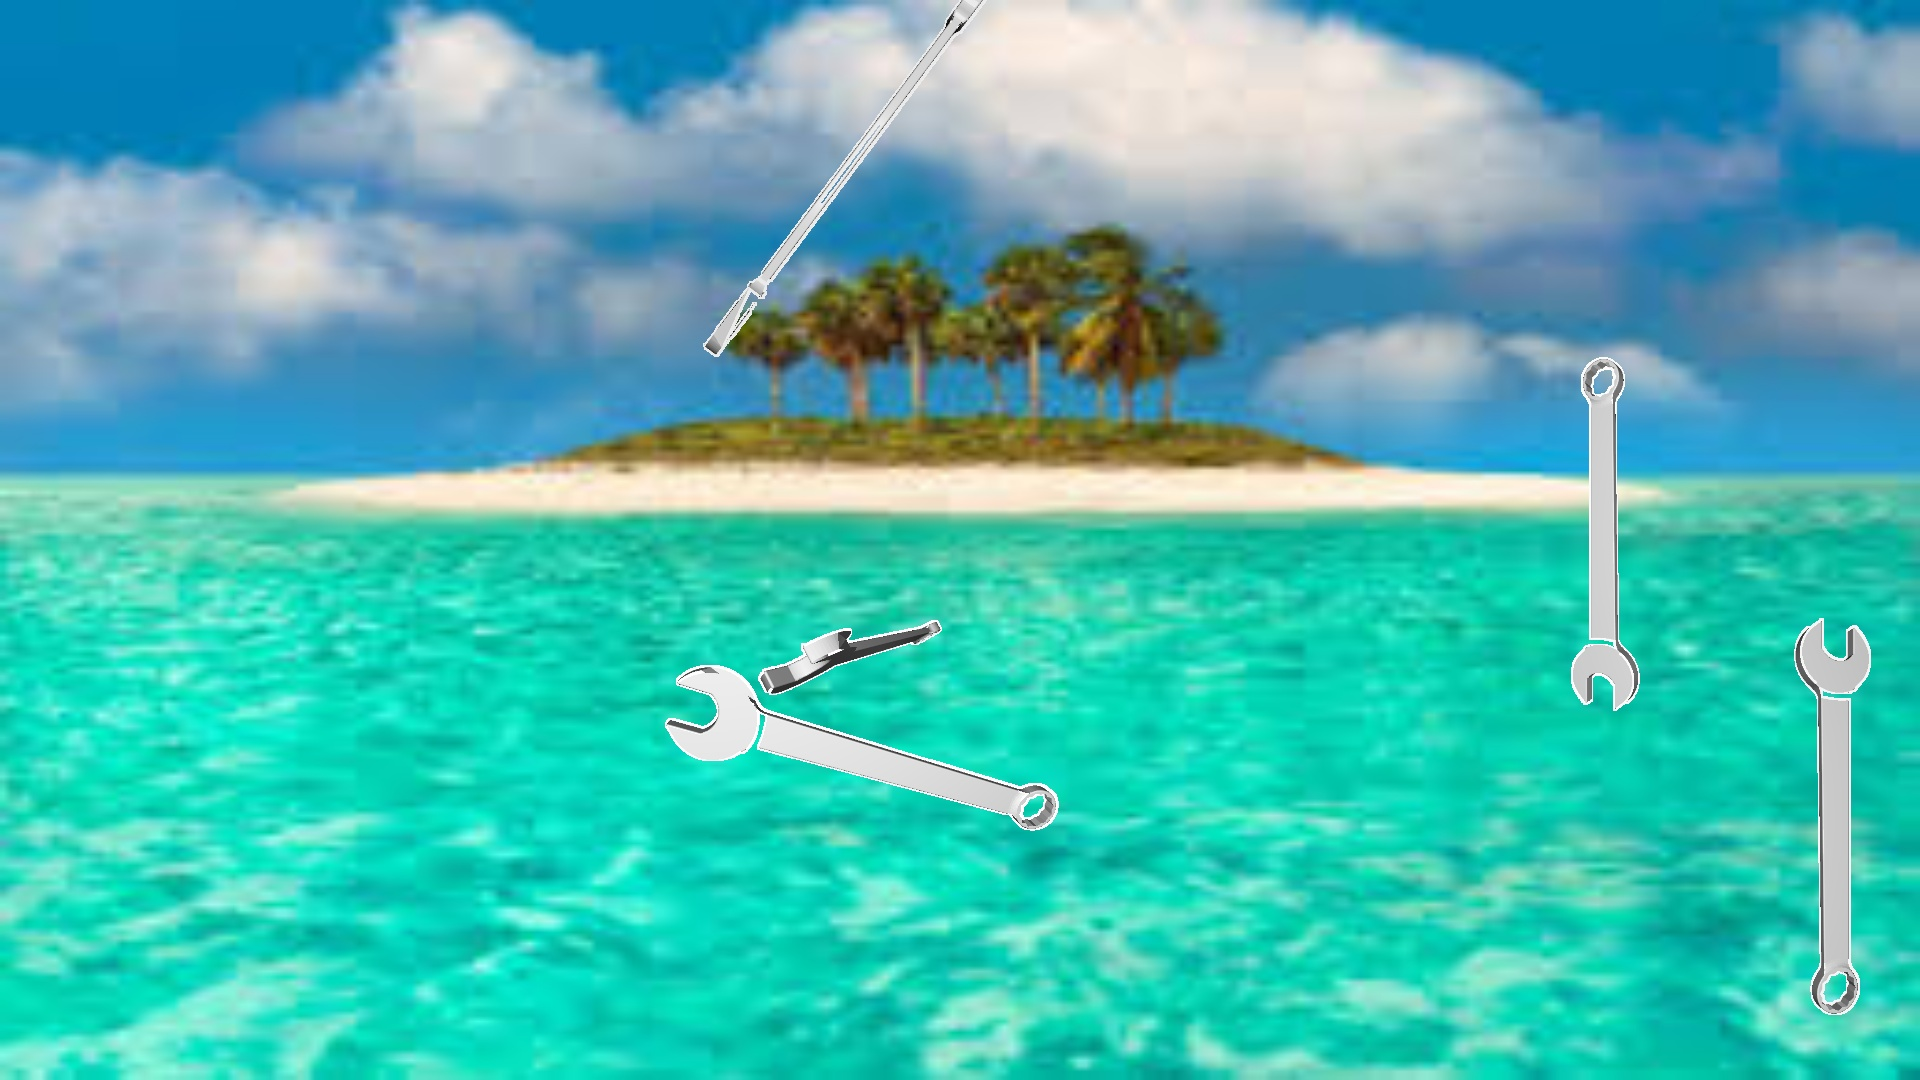Mixed Key: (703, 0, 986, 356), (665, 665, 1058, 829), (1793, 618, 1870, 1014), (1571, 357, 1639, 709), (758, 620, 942, 694)
